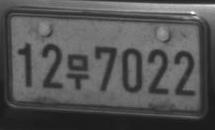0: (120, 48, 145, 92)
1: (15, 42, 37, 88)
2: (173, 49, 196, 96), (41, 43, 64, 89), (147, 48, 169, 95)
7: (93, 45, 118, 93)
무: (65, 53, 90, 91)
